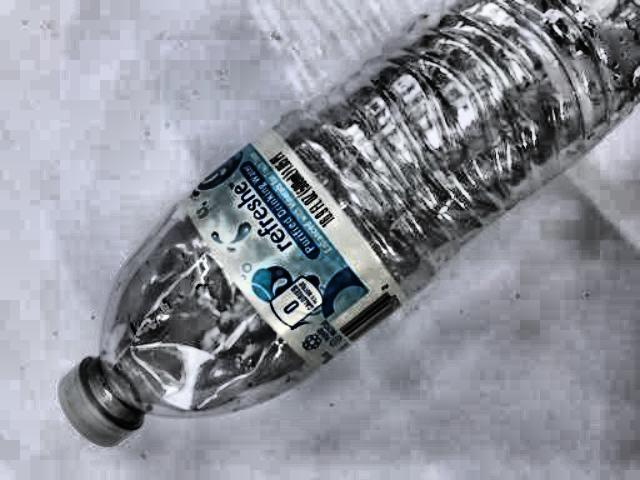Bottles: (10, 0, 640, 449)
